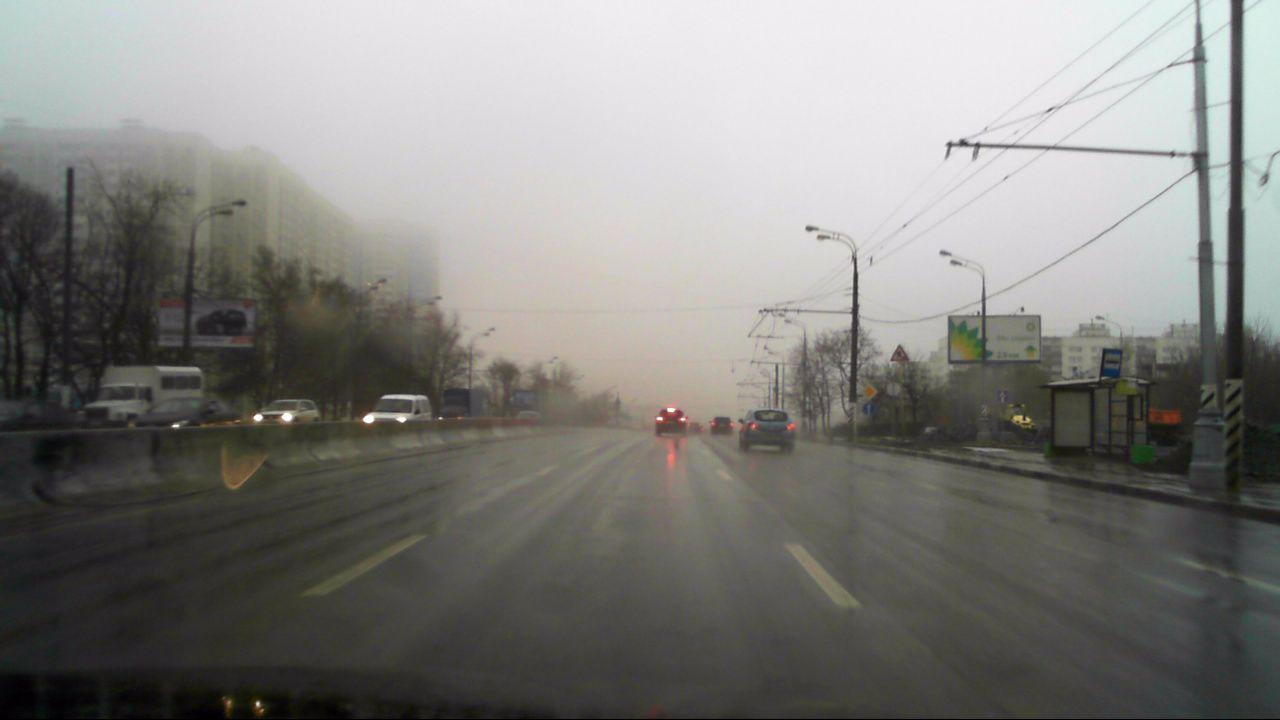road_sign: (1101, 348, 1122, 377)
